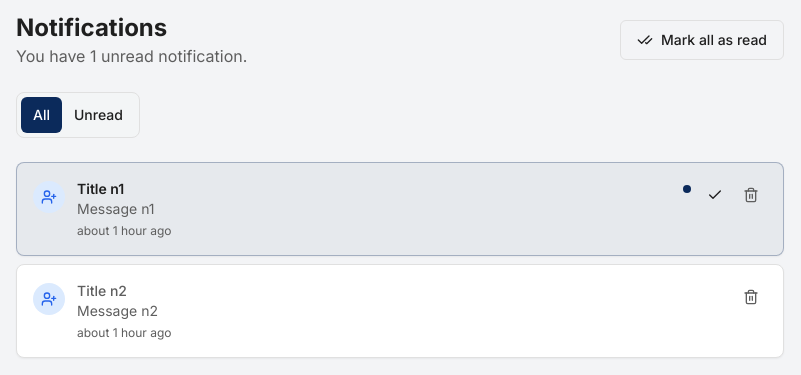
Test: Notifications page › deletes a notification
expect the text "Title n2" is shown: met, box [77,282,127,299]
What coordinates should you click on to do the following:
click the button named "delete \"title n2\""
I would click on:
 (751, 297)
Its box is [735,281,767,313].
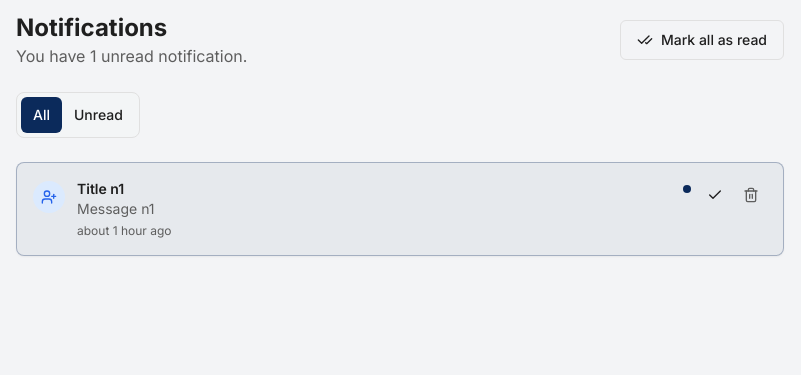
expect the button "Title n2" is gone: met
